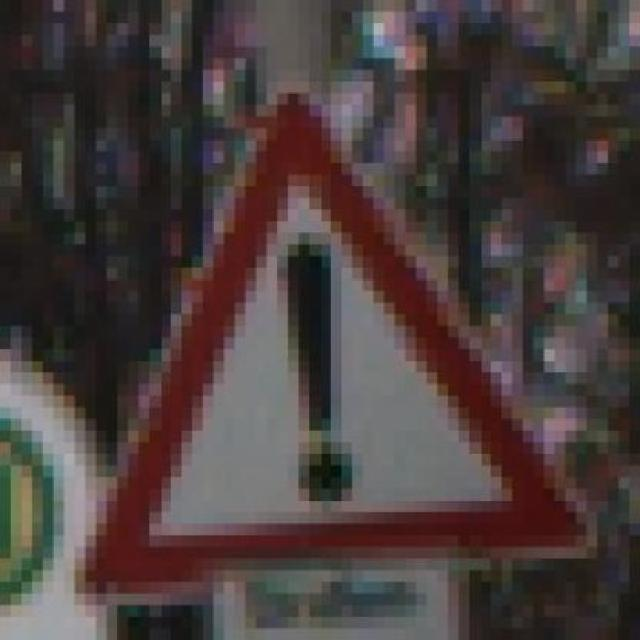Attention Please-: (59, 81, 593, 617)
